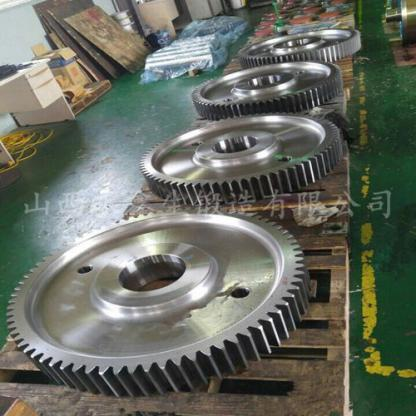FOD: (4, 204, 310, 399), (140, 108, 348, 206), (189, 57, 345, 125), (237, 24, 365, 73)
